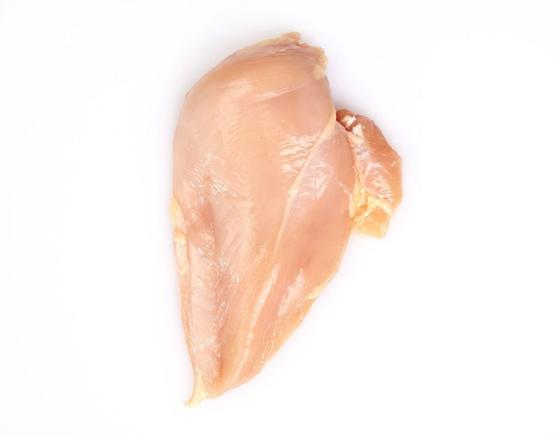chicken_fillet: (169, 37, 406, 407)
